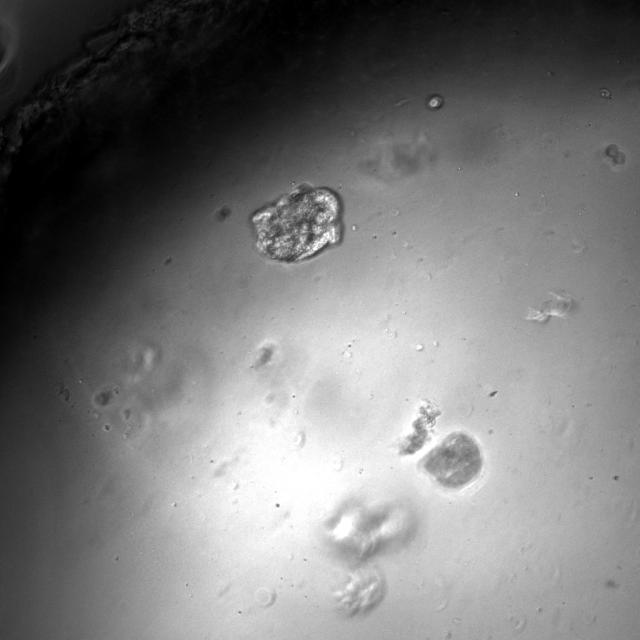organoid: (252, 183, 341, 262), (421, 431, 482, 487), (400, 401, 441, 455), (604, 143, 626, 167), (425, 94, 443, 110)
